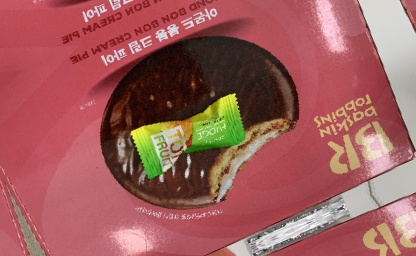jeli: (125, 81, 258, 187)
